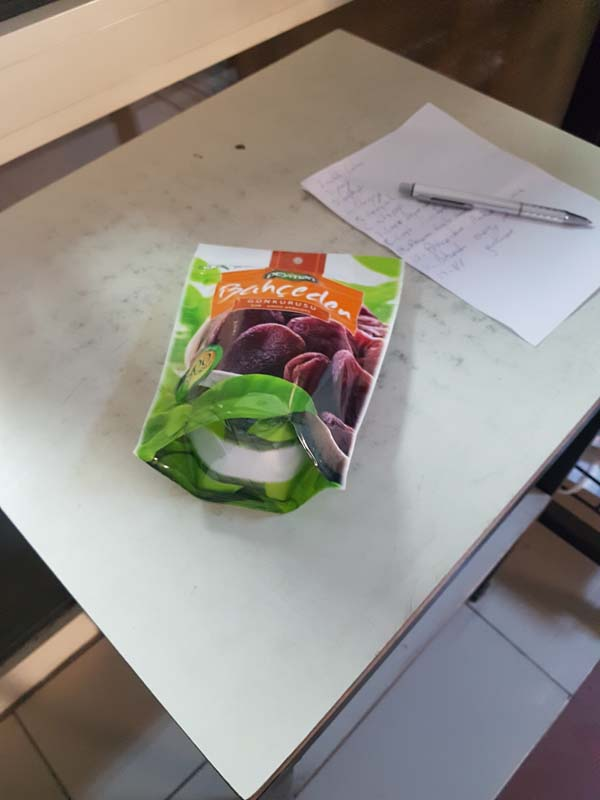bahcedengunkurusu: (128, 234, 400, 509)
